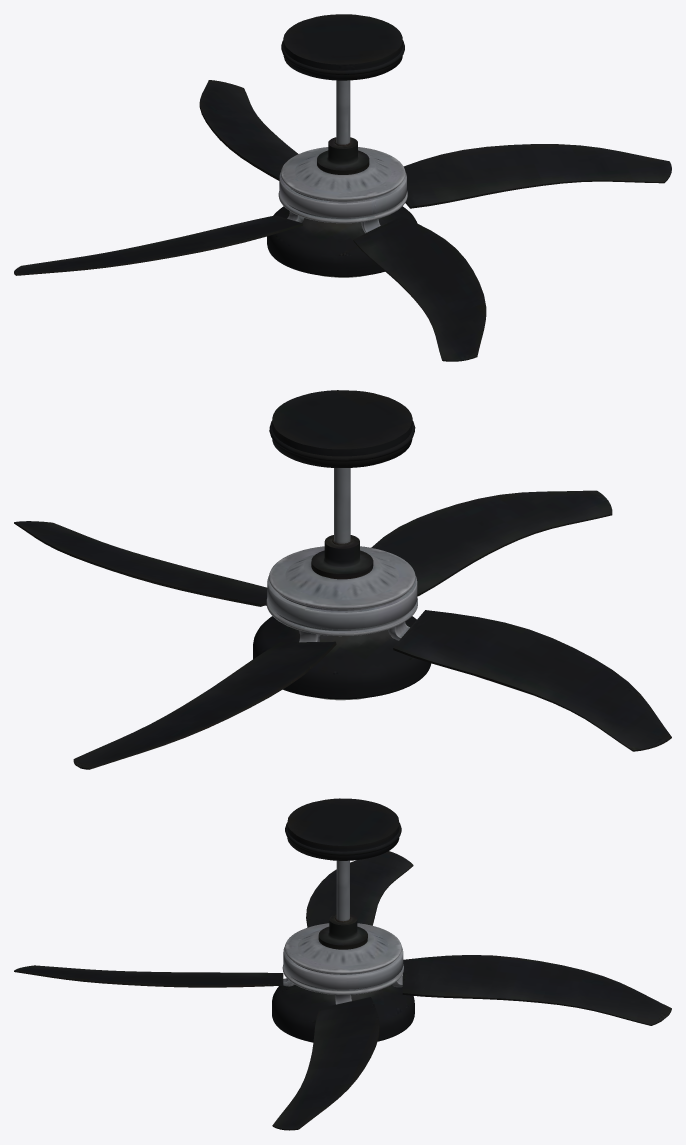
File: fan.glb
3 renders of one model, top to bottom at view 1: azimuth 30°, elevation 25°; view 2: azimuth 150°, elevation 25°; view 3: azimuth 270°, elevation 25°, orthographic. The views are drawn at different scales.
Visible parts, largest first — view 1: ceiling_fan_blades, ceiling_fan; view 2: ceiling_fan_blades, ceiling_fan; view 3: ceiling_fan_blades, ceiling_fan.
Part boxes in pixels (x1=…): ceiling_fan_blades: x1=14, y1=80, x2=671, y2=361; ceiling_fan: x1=267, y1=14, x2=417, y2=277; ceiling_fan_blades: x1=14, y1=490, x2=671, y2=769; ceiling_fan: x1=253, y1=390, x2=431, y2=700; ceiling_fan_blades: x1=14, y1=851, x2=671, y2=1130; ceiling_fan: x1=272, y1=798, x2=414, y2=1042.
Bounding box in the file's own units: 1.46 × 0.5163 × 1.46.
Materials: 1 (1 with a texture image).
